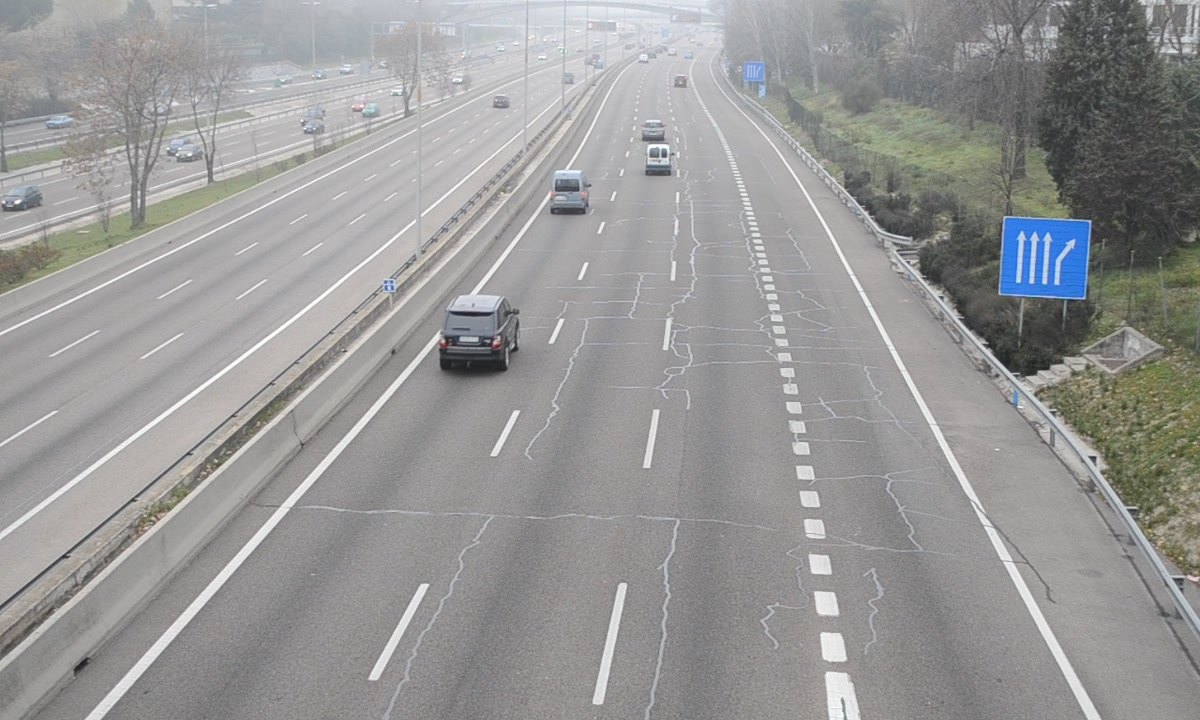car: (438, 296, 519, 365)
van: (549, 169, 591, 212), (643, 141, 673, 177)
